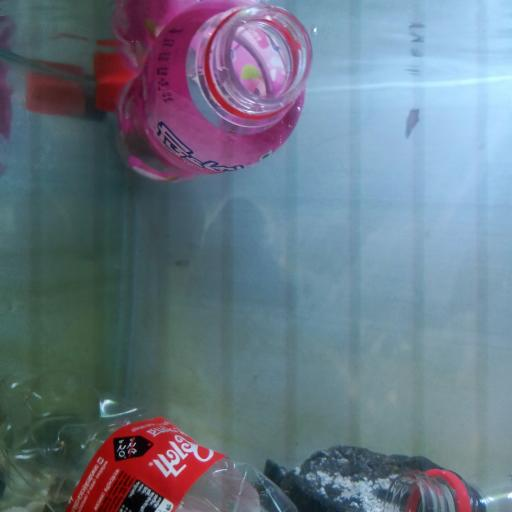bottle_cap: (94, 65, 150, 114)
plastic_bottle: (2, 352, 300, 512), (111, 0, 316, 189), (368, 463, 512, 512)
